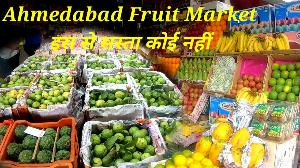apple: (179, 85, 209, 119)
banana: (214, 29, 290, 54)
lime: (87, 114, 159, 162), (25, 84, 70, 110), (86, 88, 130, 112), (138, 88, 186, 110), (34, 70, 74, 90), (89, 71, 130, 87), (156, 116, 184, 138), (132, 70, 166, 88), (1, 88, 25, 110), (16, 56, 49, 72), (3, 74, 33, 88), (50, 56, 76, 70), (119, 59, 147, 71), (87, 61, 119, 71), (86, 52, 112, 62), (112, 52, 144, 59)
pear: (176, 56, 214, 82)
